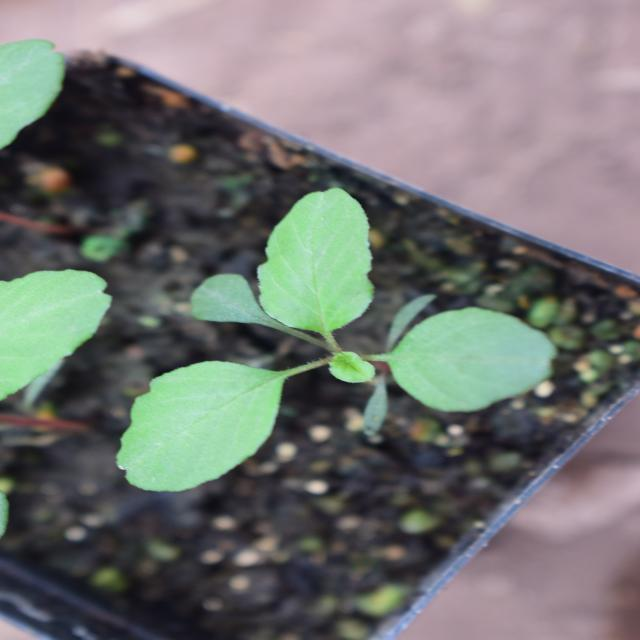pigweed: (143, 106, 461, 554)
